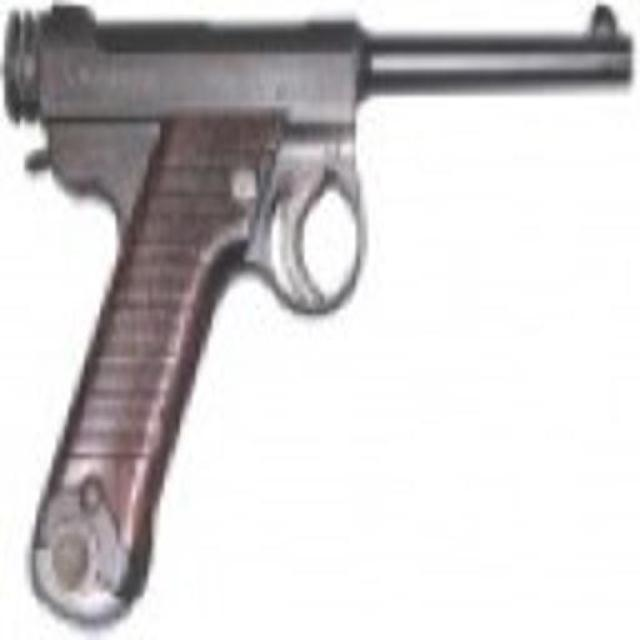pistol: (7, 5, 635, 612)
